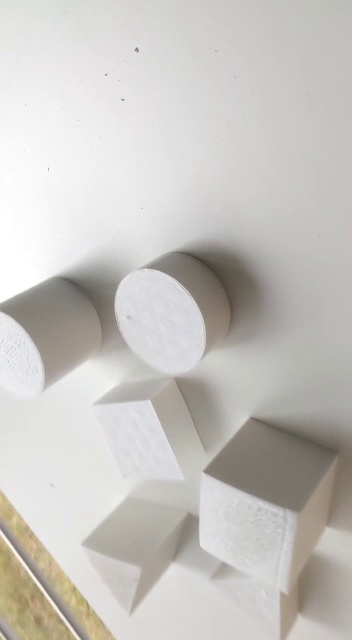Clyinder_short: (109, 247, 236, 379)
Cube: (200, 416, 341, 597)
Cube_short: (91, 375, 211, 496)
Cylinder: (1, 276, 104, 395)
Triangle: (77, 490, 194, 617)
Triangle_short: (209, 556, 298, 640)
